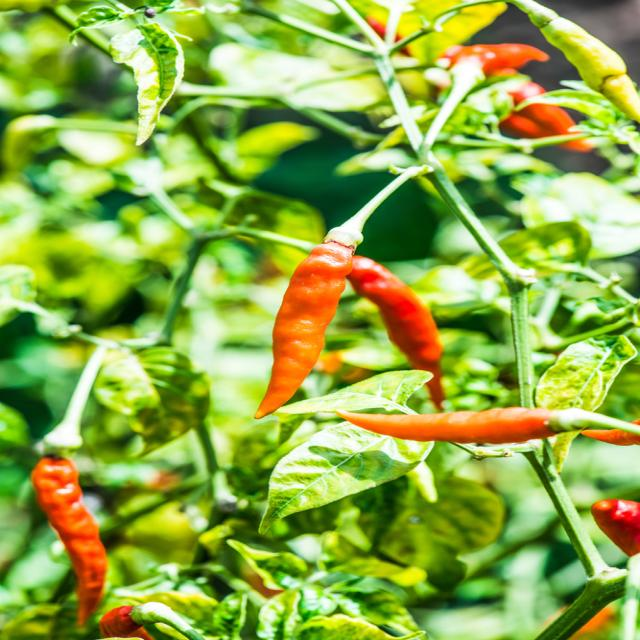Ripe: (255, 241, 354, 418), (347, 256, 442, 409), (32, 458, 107, 626), (337, 408, 557, 444), (440, 44, 549, 76), (592, 500, 640, 556), (99, 605, 154, 639), (581, 429, 640, 446)
Unripe: (509, 0, 639, 121)
